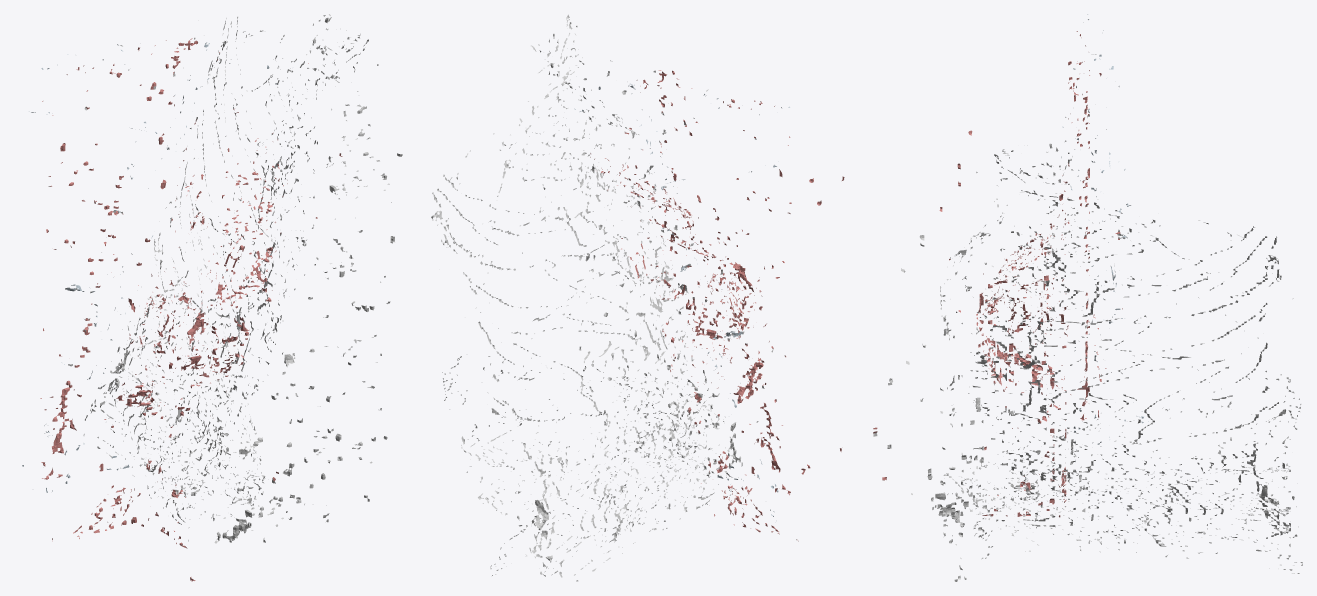
Rendered from B173-뜬면-1__lt_dynnow_ALS_s0__removed.glb.
The picture shows the model from 3 angles, left to right: view 1: azimuth 30°, elevation 25°; view 2: azimuth 150°, elevation 25°; view 3: azimuth 270°, elevation 25°; orthographic projection. The views are drawn at different scales.
Size of the model in its own units: 21.7 by 34.47 by 29.06.
